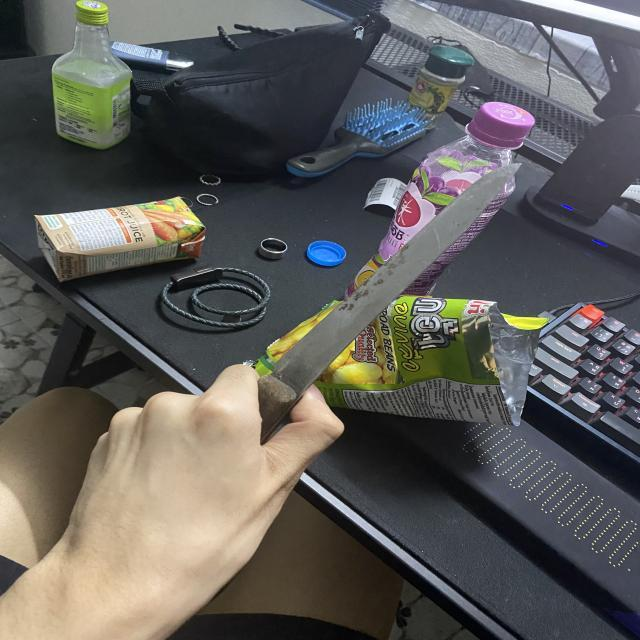faca: (62, 140, 538, 546)
